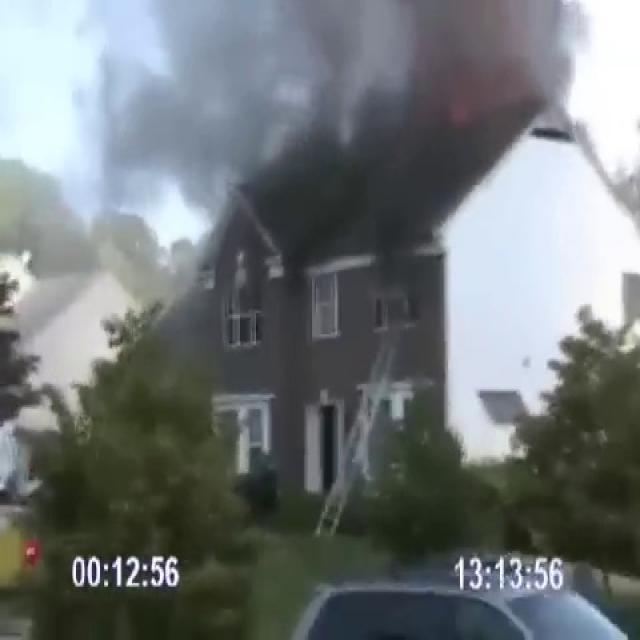Smoke: (44, 0, 639, 260)
